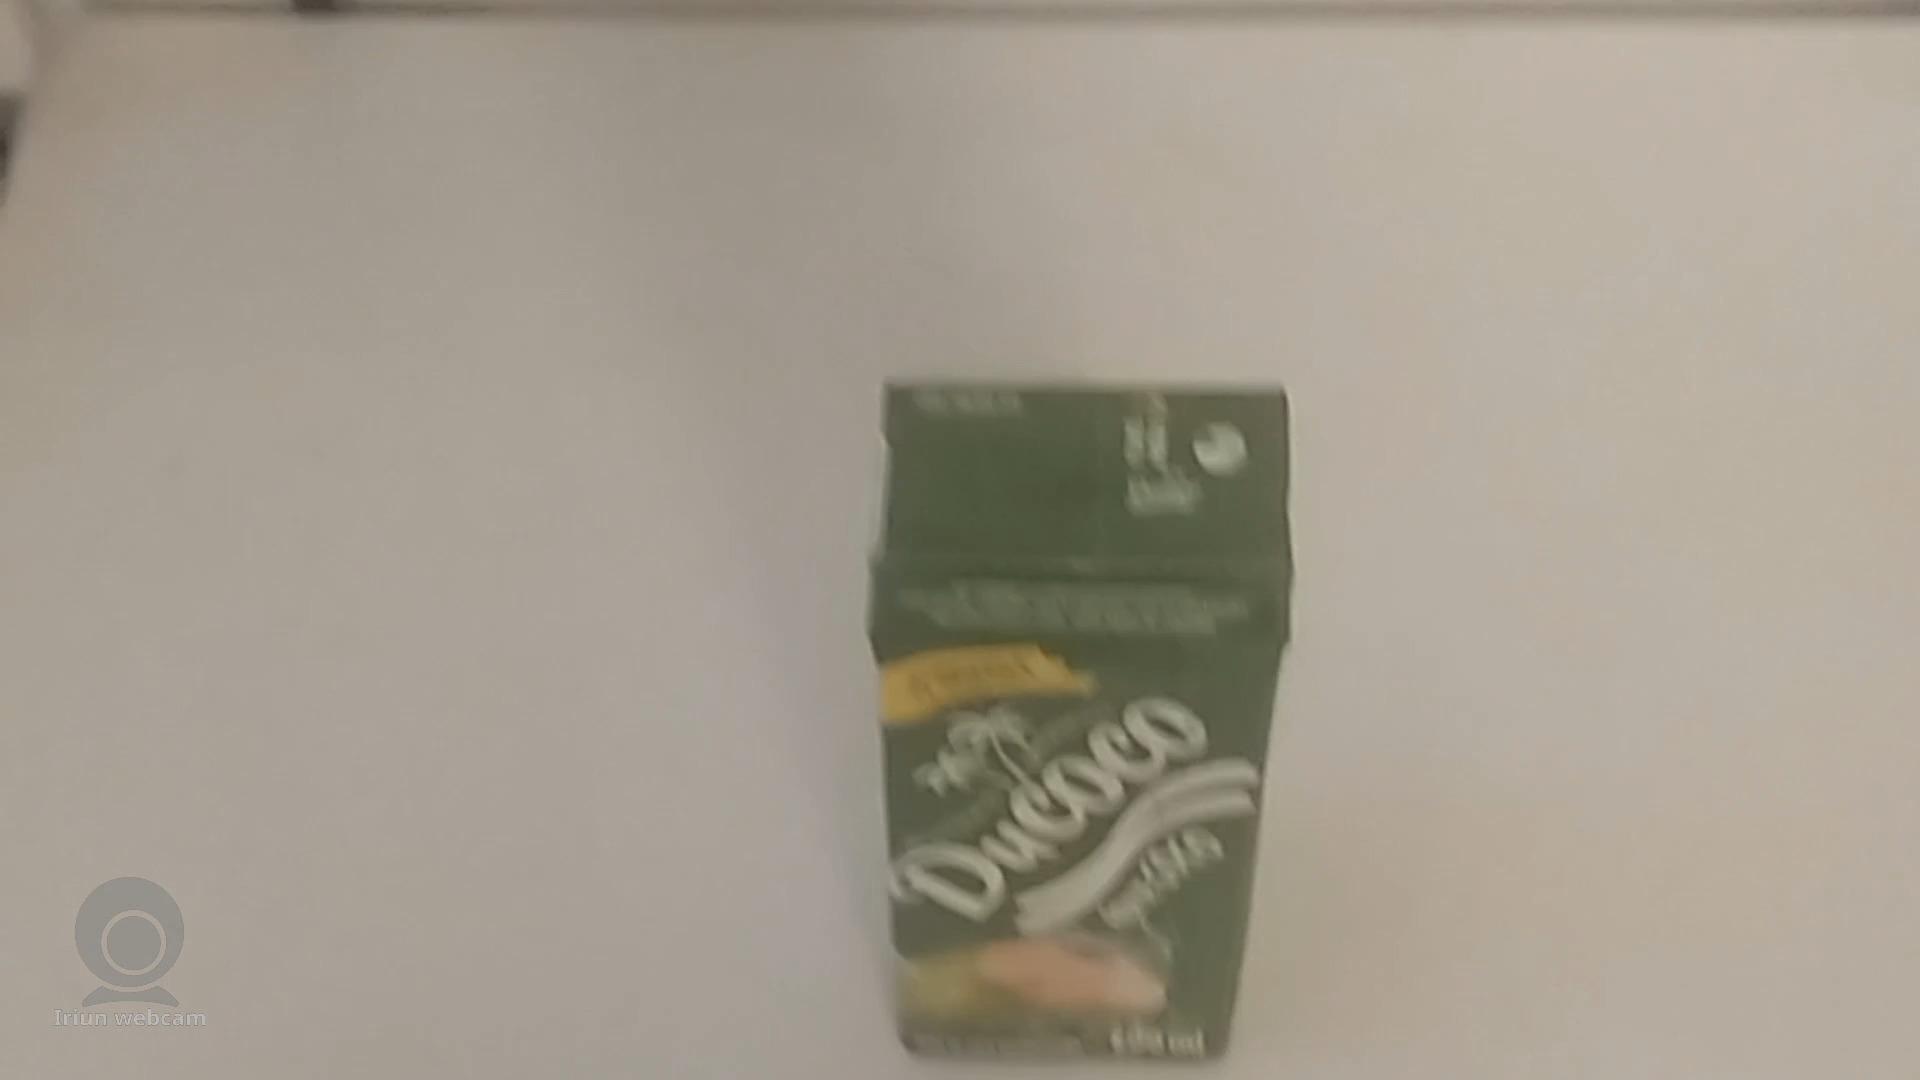coco: (868, 376, 1294, 1073)
